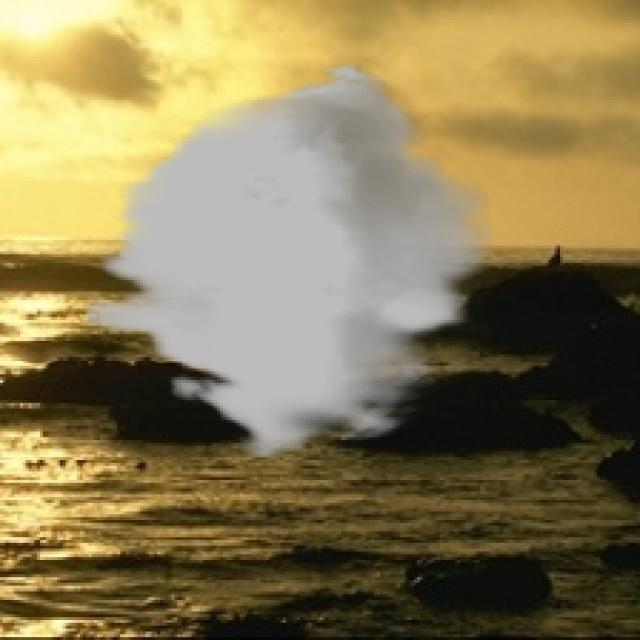Smoke: (86, 63, 492, 460)
